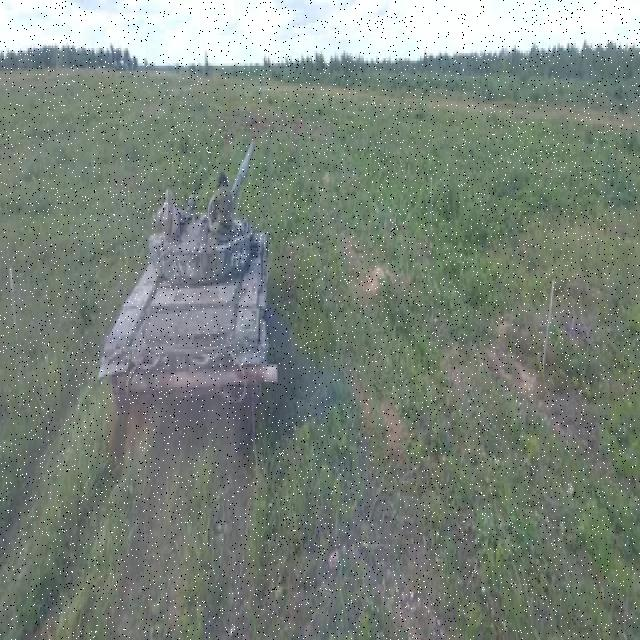MIL_MBT: (97, 135, 278, 419)
